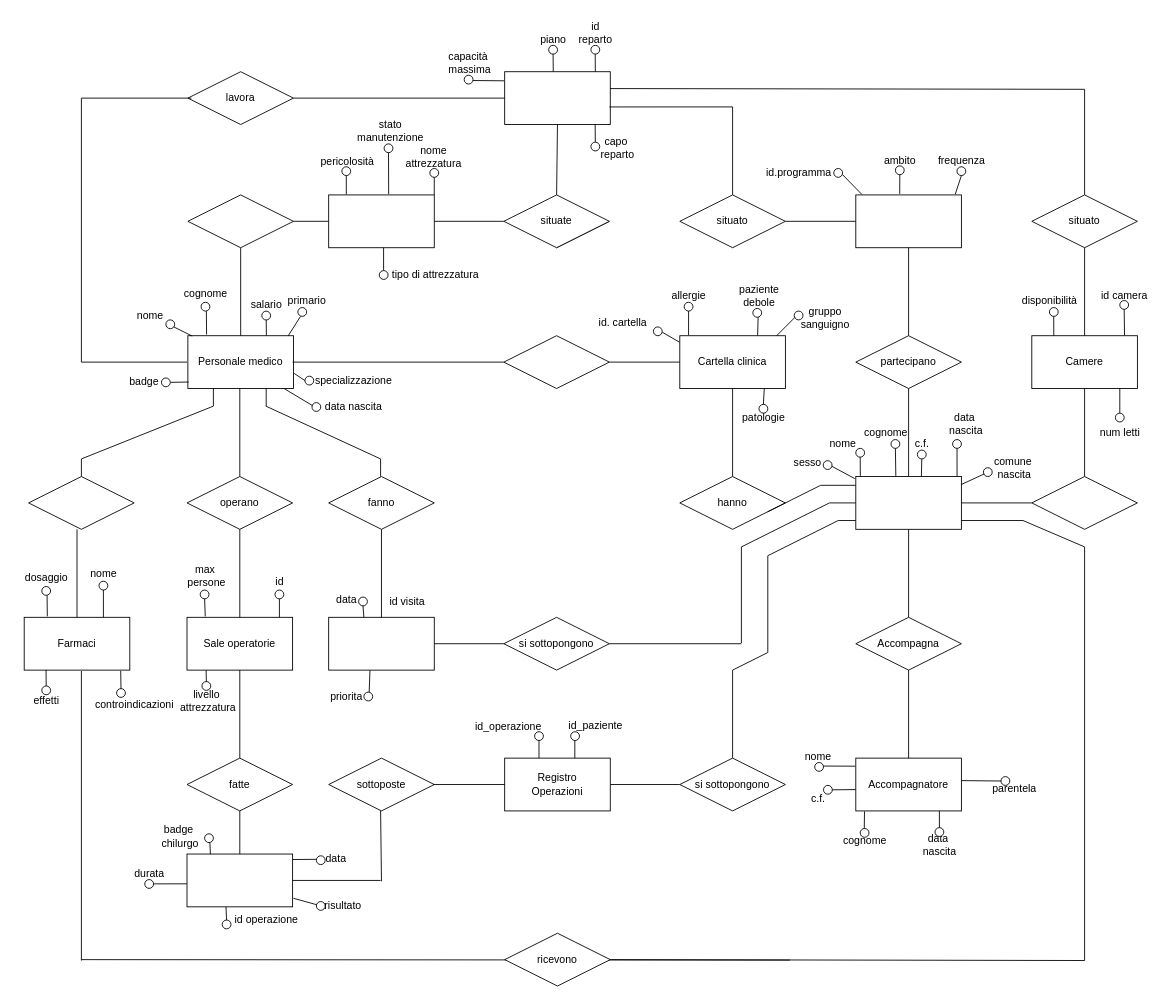
This 1174x1001 diagram has some shape labels left out. The centre of each missing label's shape, as x and y in pixels:
"Attrezzatura medica" belongs at point (381, 221).
"Operazioni" belongs at point (239, 880).
"Pazienti" belongs at point (908, 502).
"posto" belongs at point (1084, 502).
"Reparti" belongs at point (557, 98).
"Riabilitazione" belongs at point (908, 221).
"scritta/letta" belongs at point (556, 362).
"somministrano" belongs at point (81, 502).
"utilizzano" belongs at point (240, 221).
"Visiti prenotate" belongs at point (381, 643).
